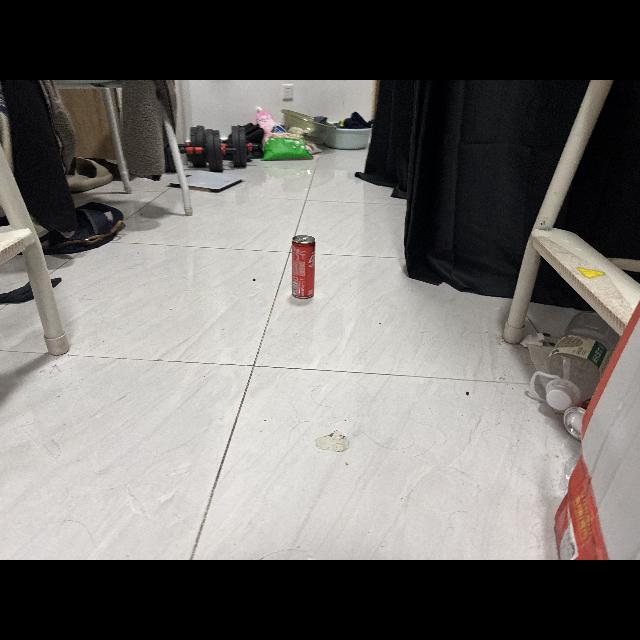Cola: (286, 232, 324, 304)
